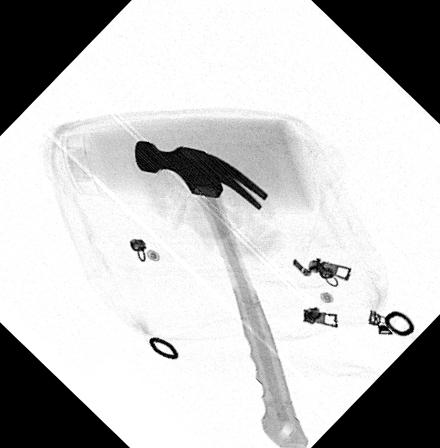Hammer: (133, 138, 309, 448)
